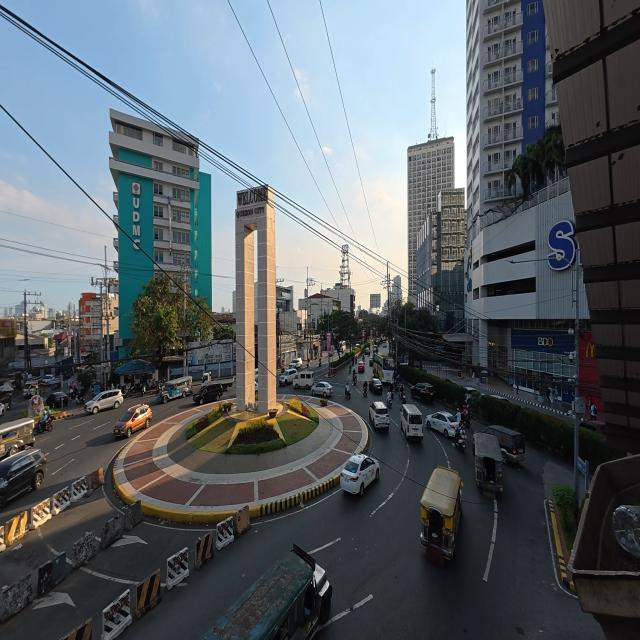Jeepneys: (203, 545, 332, 639), (421, 467, 462, 565), (473, 432, 502, 493), (0, 418, 34, 458), (157, 376, 192, 403)
bus: (374, 353, 394, 382)
car: (0, 449, 46, 510), (341, 454, 379, 495), (485, 425, 525, 462), (113, 404, 152, 438), (85, 389, 123, 413), (426, 412, 458, 437), (193, 383, 224, 404), (370, 401, 389, 430), (410, 383, 434, 403), (45, 392, 68, 408), (311, 381, 332, 397), (279, 367, 297, 385), (465, 387, 482, 402), (369, 378, 383, 394), (490, 394, 511, 403), (289, 358, 302, 369), (42, 375, 54, 385), (0, 403, 6, 415), (358, 361, 364, 372), (365, 347, 370, 355), (369, 357, 373, 366), (255, 381, 258, 393), (355, 344, 360, 350), (374, 345, 378, 352)
motorcycle: (35, 413, 53, 434), (453, 433, 466, 450), (76, 393, 84, 405), (465, 415, 470, 430), (389, 386, 394, 400), (400, 392, 405, 404), (363, 383, 367, 397), (387, 398, 392, 409), (353, 373, 357, 385), (345, 390, 350, 399), (349, 364, 352, 375), (319, 358, 321, 367)
vans: (401, 404, 423, 439), (293, 371, 314, 388), (23, 382, 38, 397)
